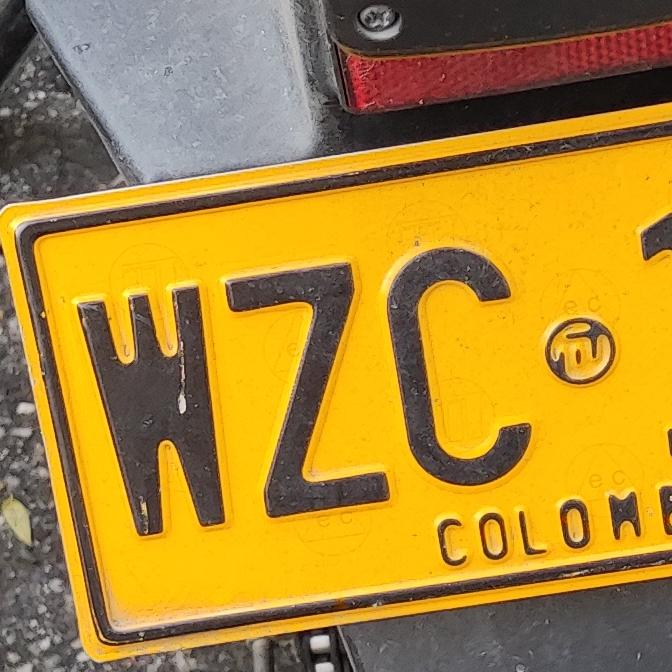plates: (0, 96, 672, 670)
